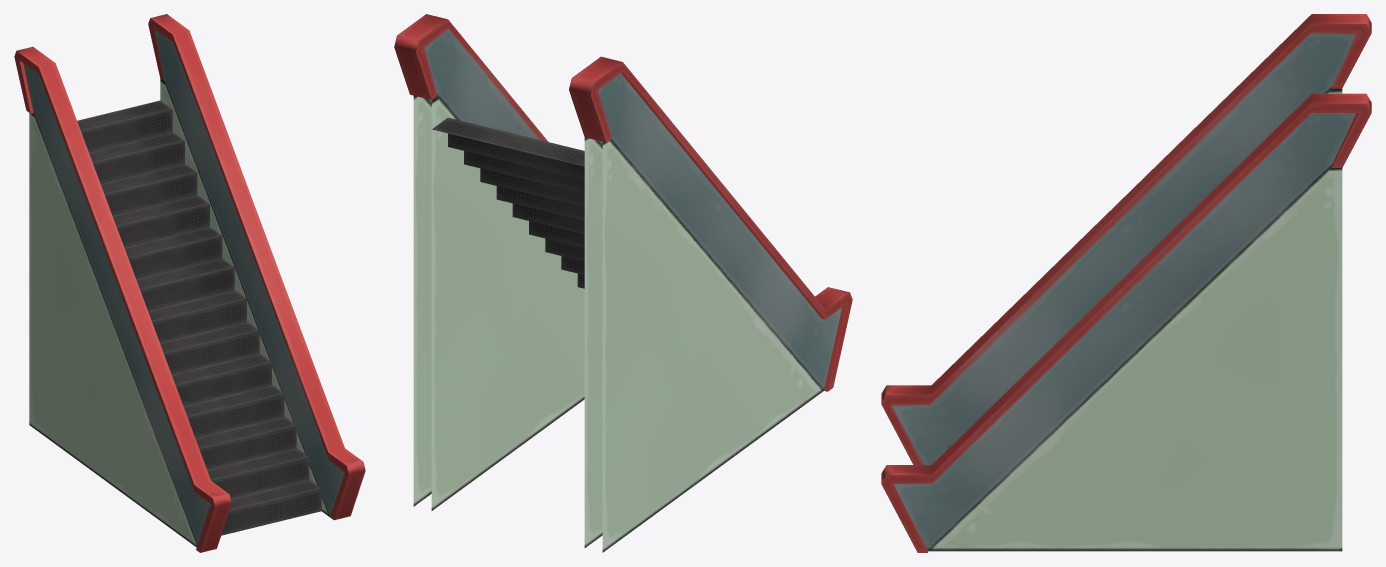
The model's file is escalator.fbx.
3 views of the same model, side by side, from view 1: azimuth 30°, elevation 25°; view 2: azimuth 150°, elevation 25°; view 3: azimuth 270°, elevation 25° (orthographic). The views are drawn at different scales.
Visible parts, largest first — view 1: escalator; view 2: escalator; view 3: escalator.
Boxes of the visible parts, x1,y1,x2,y2 form: escalator: [14, 14, 365, 552]; escalator: [394, 14, 852, 552]; escalator: [881, 14, 1371, 552].
Size of the model in its own units: 100 by 233 by 231.
